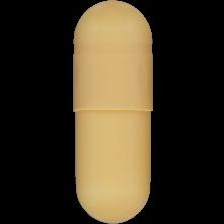48433-306: (0, 0, 224, 224)
